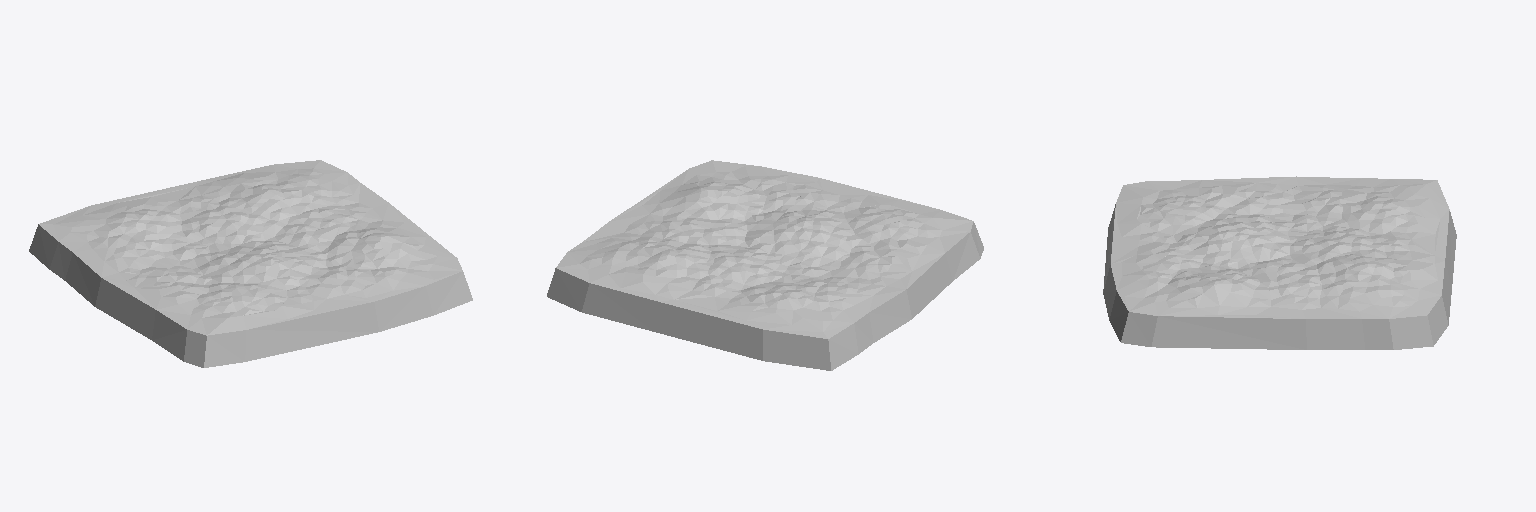
File: Meadow_Flat_1.obj
The picture shows the model from 3 angles: view 1: azimuth 30°, elevation 25°; view 2: azimuth 150°, elevation 25°; view 3: azimuth 270°, elevation 25°; orthographic projection.
Visible parts, largest first — view 1: PP_Meadow_07.002; view 2: PP_Meadow_07.002; view 3: PP_Meadow_07.002.
Boxes of the visible parts, <box> form: PP_Meadow_07.002: <box>29,160,472,367</box>; PP_Meadow_07.002: <box>547,160,983,370</box>; PP_Meadow_07.002: <box>1103,176,1456,349</box>.
Bounding box in the file's own units: 22.51 × 2.83 × 22.59.